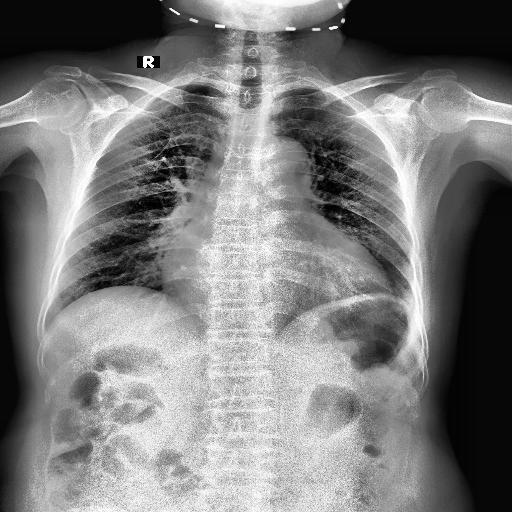0- Aortic enlargement: (250, 132, 317, 196), (251, 136, 308, 190), (255, 138, 313, 186)
3- Cardiomegaly: (158, 232, 394, 308), (159, 251, 394, 326), (162, 252, 394, 314)
